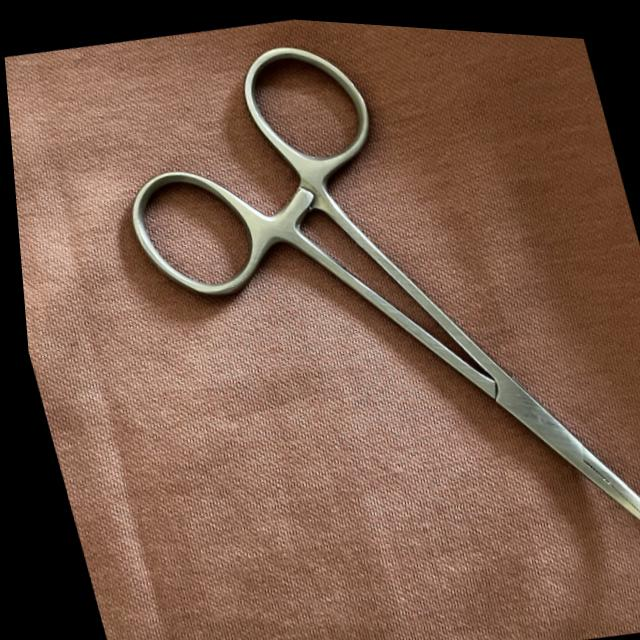scissor: (76, 4, 640, 633)
